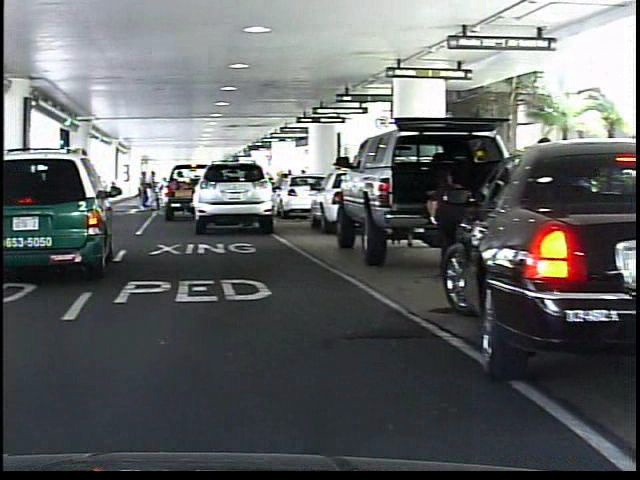person: (421, 159, 474, 273)
